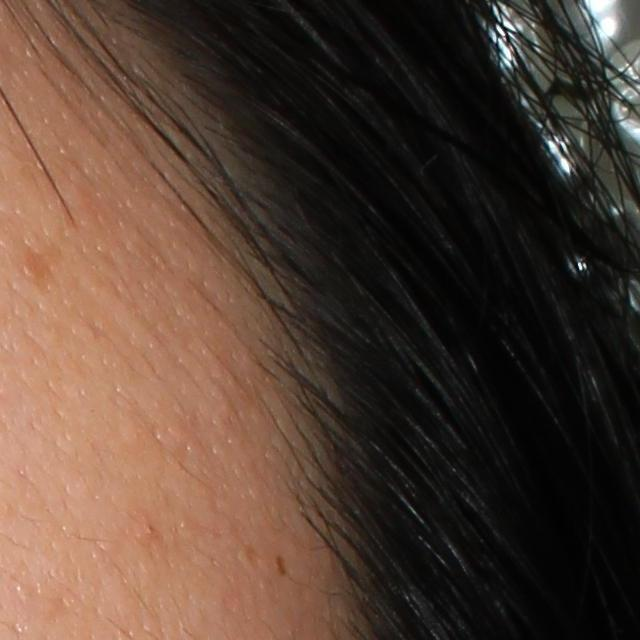nevus: (272, 550, 291, 578)
